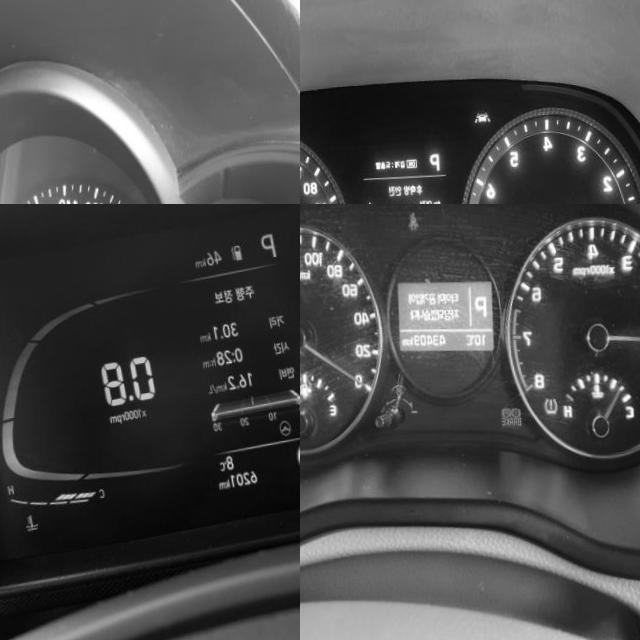LaneCenteringOff: (472, 115, 489, 129)
